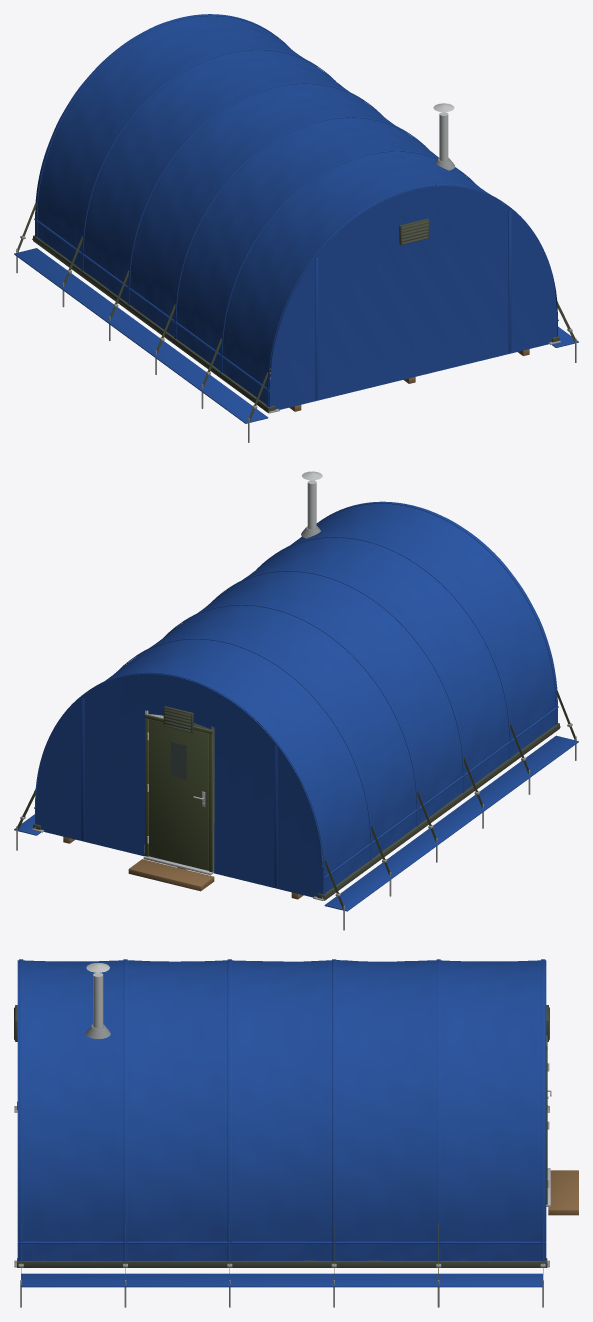
Rendered from polarhaven-deployed.glb.
The picture shows the model from 3 angles, top to bottom: view 1: azimuth 30°, elevation 25°; view 2: azimuth 150°, elevation 25°; view 3: azimuth 270°, elevation 25°; orthographic projection. The views are drawn at different scales.
Visible parts, largest first — view 1: POLARHAVEN_shelter; view 2: POLARHAVEN_shelter; view 3: POLARHAVEN_shelter.
Part boxes in pixels (left/top/right/bottom): POLARHAVEN_shelter: left=14, top=14, right=578, bottom=442; POLARHAVEN_shelter: left=14, top=471, right=578, bottom=930; POLARHAVEN_shelter: left=14, top=959, right=578, bottom=1307.
Bounding box in the file's own units: 5.07 × 3.72 × 6.6.
